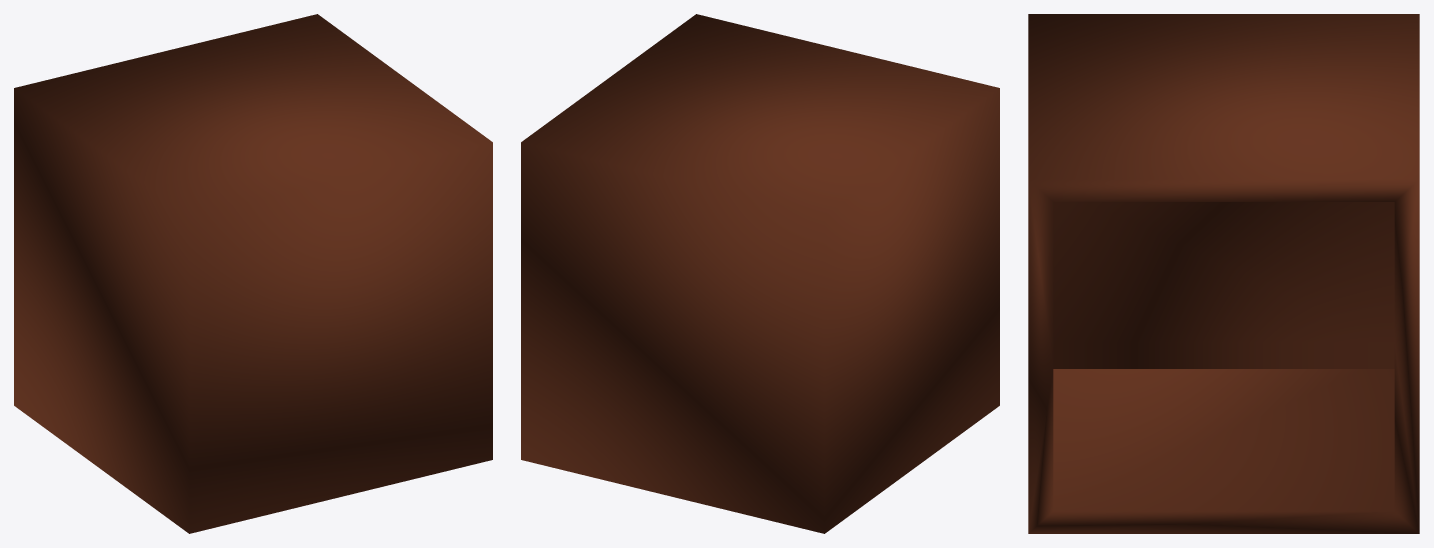
Rendered from SmallShelfVatra.fbx.
The picture shows the model from 3 angles, left to right: view 1: azimuth 30°, elevation 25°; view 2: azimuth 150°, elevation 25°; view 3: azimuth 270°, elevation 25°; orthographic projection. The views are drawn at different scales.
Visible parts, largest first — view 1: Cube; view 2: Cube; view 3: Cube.
Part boxes in pixels (left/top/right/bottom): Cube: left=14, top=14, right=492, bottom=533; Cube: left=521, top=14, right=999, bottom=533; Cube: left=1028, top=14, right=1419, bottom=533.
Bounding box in the file's own units: 91.01 × 91.01 × 91.01.
